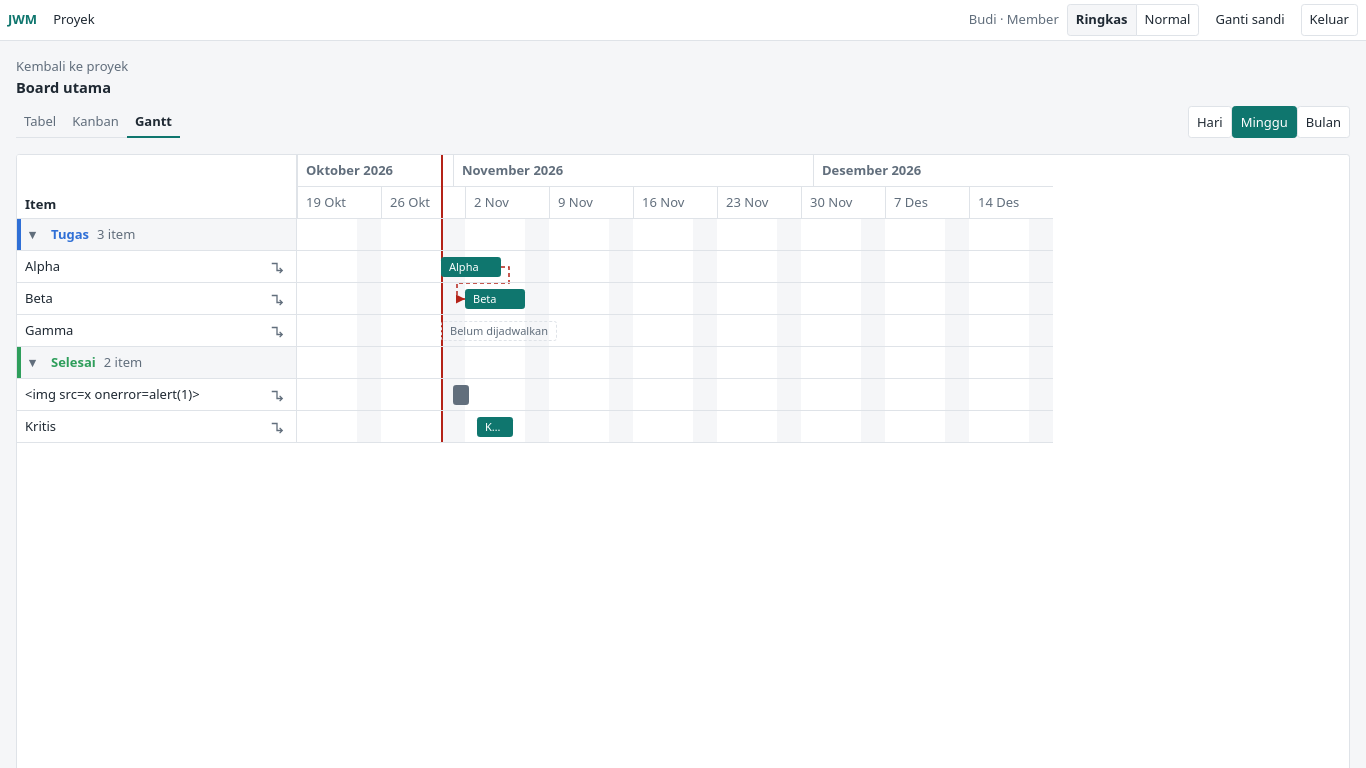
Test: Gantt › server menolak: batang kembali dan galat tampil
Press the mouse on the button with aria-label "Alpha:" at (471, 267), box [441,257,501,277]
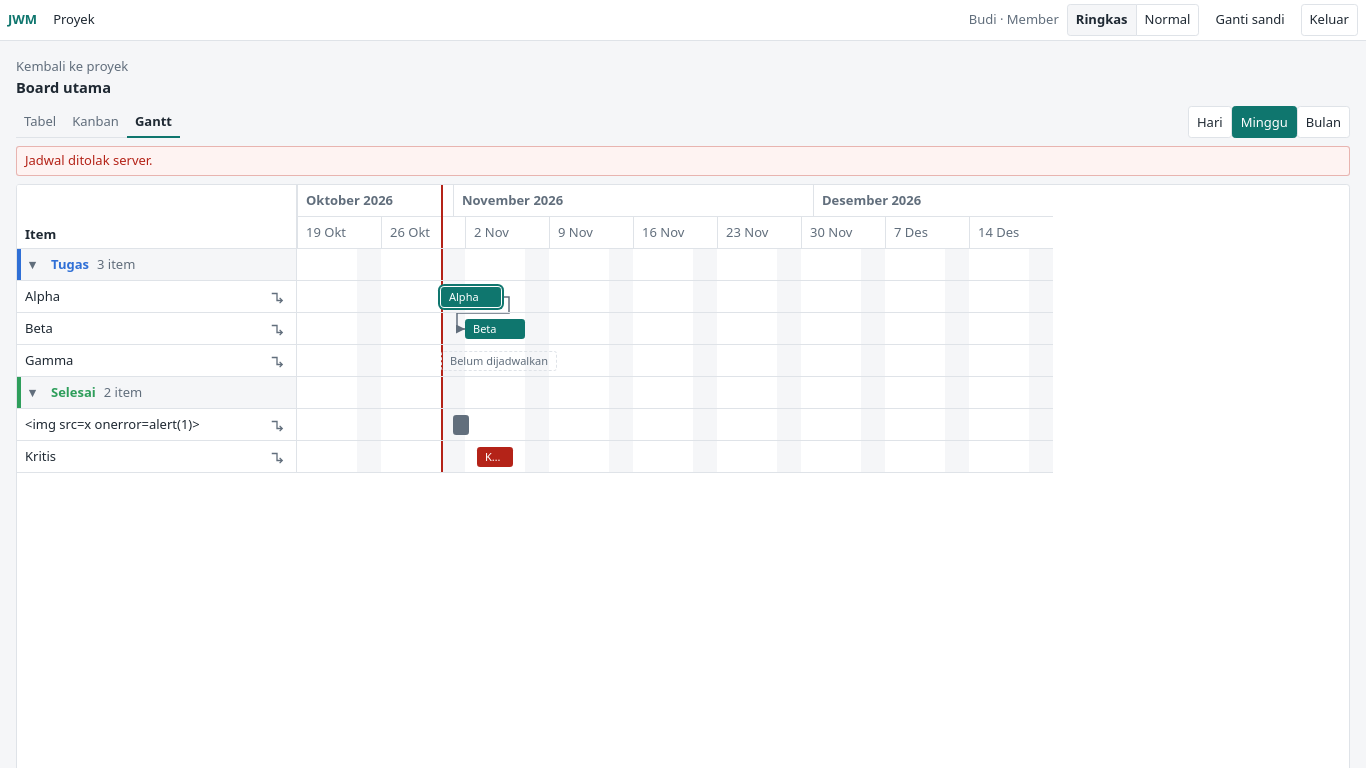
Expected: the message reads "Jadwal ditolak server.", [25,151,153,169]
